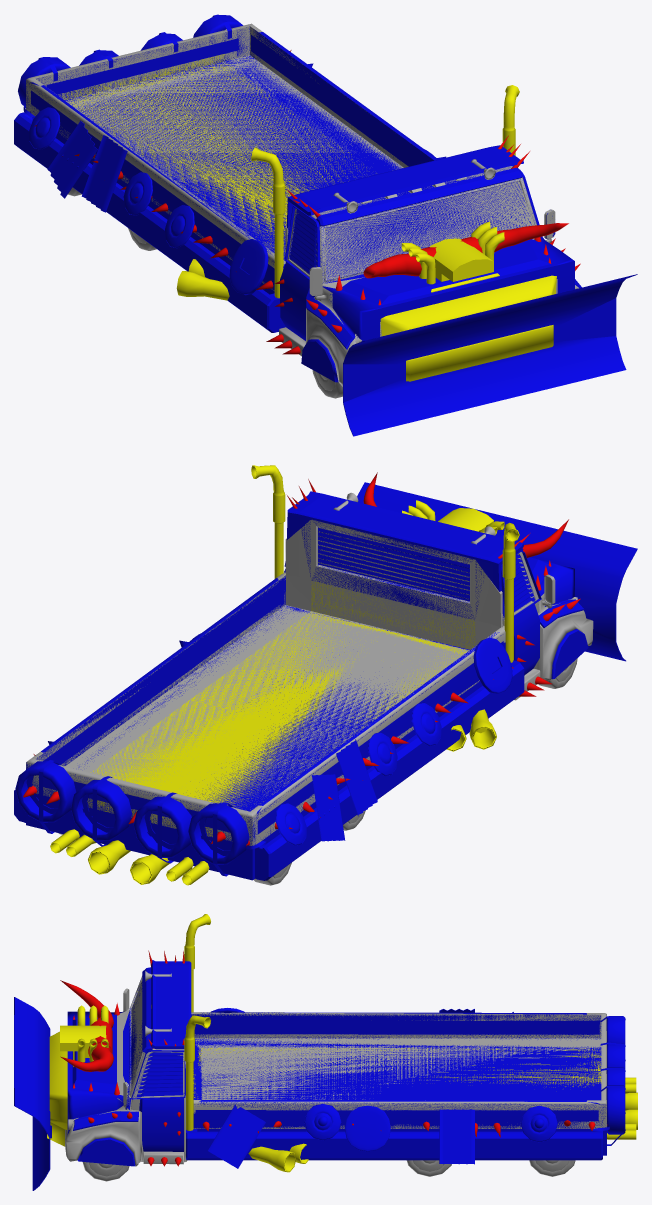
The model's file is Heavy_Truck.fbx.
3 renders of one model, top to bottom at view 1: azimuth 30°, elevation 25°; view 2: azimuth 150°, elevation 25°; view 3: azimuth 270°, elevation 25°, orthographic. The views are drawn at different scales.
Visible parts, largest first — view 1: Heavy_Front_Armored, Heavy_Back_armored_bottom1, Heavy_Front_Basic, Heavy_Back_3_bottom, Heavy_Front_speed, Heavy_Cab_Armored_top, Heavy_Cab_Basic_Top, Heavy_Back_basic_bottom, Heavy_Back_armored_top, Heavy_spikes_low_Heavy_Front_spikes, Heavy_Cab_armored_bottom, Heavy_wheels; view 2: Heavy_Back_armored_bottom1, Heavy_Front_Basic, Heavy_Back_3_bottom, Heavy_Front_Armored, Heavy_Back_basic_bottom, Heavy_Back_armored_top, Heavy_Front_speed, Heavy_Cab_Armored_top, Heavy_Back_basic_top, Heavy_spikes_low_Heavy_Front_spikes, Heavy_Cab_Basic_Top, Heavy_Cab_armored_bottom (+1 smaller); view 3: Heavy_Back_armored_bottom1, Heavy_Front_Armored, Heavy_Front_Basic, Heavy_Back_basic_bottom, Heavy_Front_speed, Heavy_Cab_Armored_top, Heavy_Back_armored_top, Heavy_spikes_low_Heavy_Front_spikes, Heavy_Cab_armored_bottom, Heavy_Back_3_bottom, Heavy_wheels, Heavy_Cab_Basic_Top (+1 smaller).
Part boxes in pixels (x1,y1,x2,y2): Heavy_Front_Armored: [65, 55, 637, 436]; Heavy_Back_armored_bottom1: [14, 14, 446, 332]; Heavy_Front_Basic: [66, 55, 578, 386]; Heavy_Back_3_bottom: [62, 54, 366, 259]; Heavy_Front_speed: [176, 85, 556, 381]; Heavy_Cab_Armored_top: [284, 165, 539, 283]; Heavy_Cab_Basic_Top: [287, 166, 536, 283]; Heavy_Back_basic_bottom: [26, 23, 410, 290]; Heavy_Back_armored_top: [287, 145, 523, 238]; Heavy_spikes_low_Heavy_Front_spikes: [34, 50, 580, 354]; Heavy_Cab_armored_bottom: [280, 262, 314, 340]; Heavy_wheels: [68, 187, 342, 398]; Heavy_Back_armored_bottom1: [14, 575, 524, 880]; Heavy_Front_Basic: [65, 492, 593, 807]; Heavy_Back_3_bottom: [88, 581, 475, 836]; Heavy_Front_Armored: [78, 482, 637, 811]; Heavy_Back_basic_bottom: [26, 572, 505, 845]; Heavy_Back_armored_top: [287, 491, 523, 619]; Heavy_Front_speed: [50, 465, 519, 885]; Heavy_Cab_Armored_top: [284, 527, 541, 620]; Heavy_Back_basic_top: [285, 519, 502, 627]; Heavy_spikes_low_Heavy_Front_spikes: [23, 472, 580, 846]; Heavy_Cab_Basic_Top: [318, 527, 538, 620]; Heavy_Cab_armored_bottom: [284, 569, 539, 675]; Heavy_Back_armored_bottom1: [186, 1008, 625, 1168]; Heavy_Front_Armored: [14, 997, 601, 1190]; Heavy_Front_Basic: [65, 971, 601, 1166]; Heavy_Back_basic_bottom: [191, 1012, 606, 1128]; Heavy_Front_speed: [47, 914, 637, 1172]; Heavy_Cab_Armored_top: [129, 967, 185, 1099]; Heavy_Back_armored_top: [151, 960, 191, 1049]; Heavy_spikes_low_Heavy_Front_spikes: [60, 950, 607, 1166]; Heavy_Cab_armored_bottom: [139, 1096, 183, 1151]; Heavy_Back_3_bottom: [193, 1048, 601, 1098]; Heavy_wheels: [82, 1160, 575, 1181]; Heavy_Cab_Basic_Top: [129, 976, 185, 1099].
Bounding box in the file's own units: 5.53 × 3.45 × 11.41.
